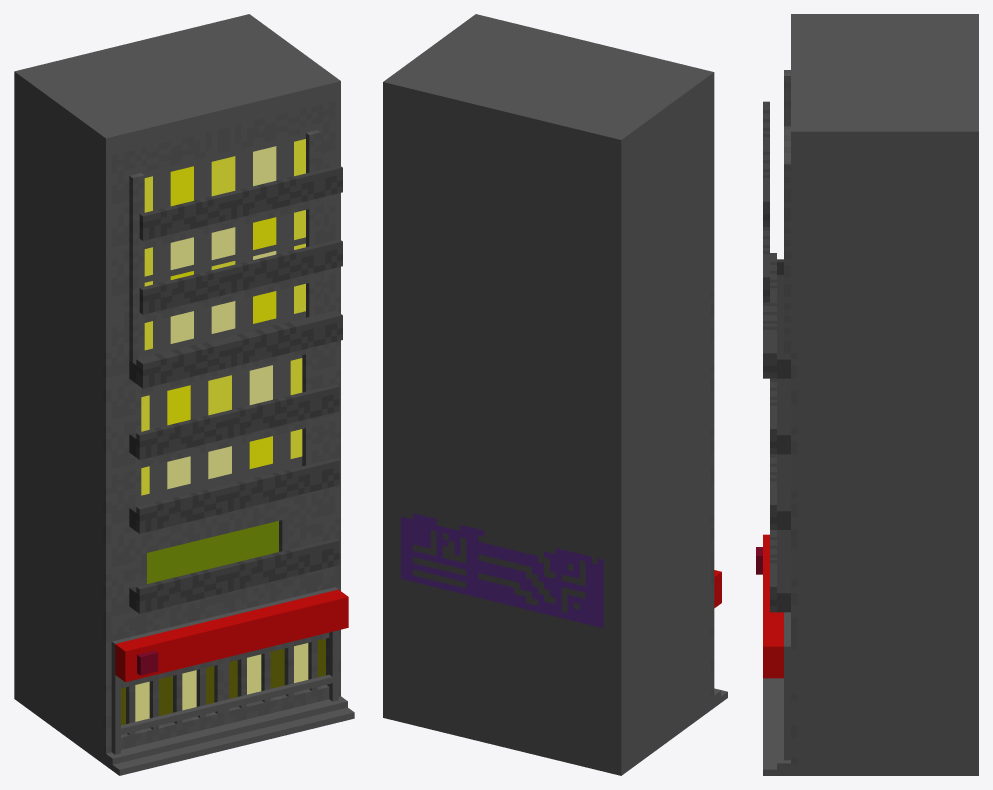
The model's file is edificio007.obj.
The picture shows the model from 3 angles, left to right: view 1: azimuth 30°, elevation 25°; view 2: azimuth 150°, elevation 25°; view 3: azimuth 270°, elevation 25°; orthographic projection. The views are drawn at different scales.
Bounding box in the file's own units: 4 × 10.2 × 3.2.
Materials: 1 (1 with a texture image).
